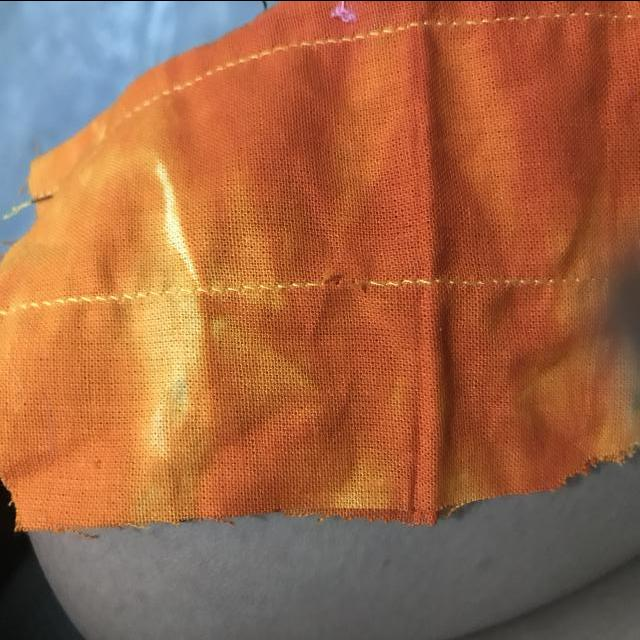Broken: (309, 258, 386, 334)
